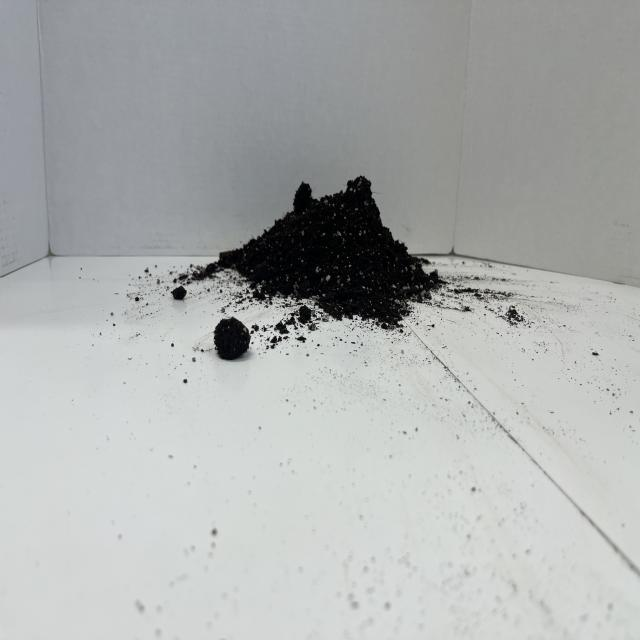soil: (193, 172, 444, 330)
